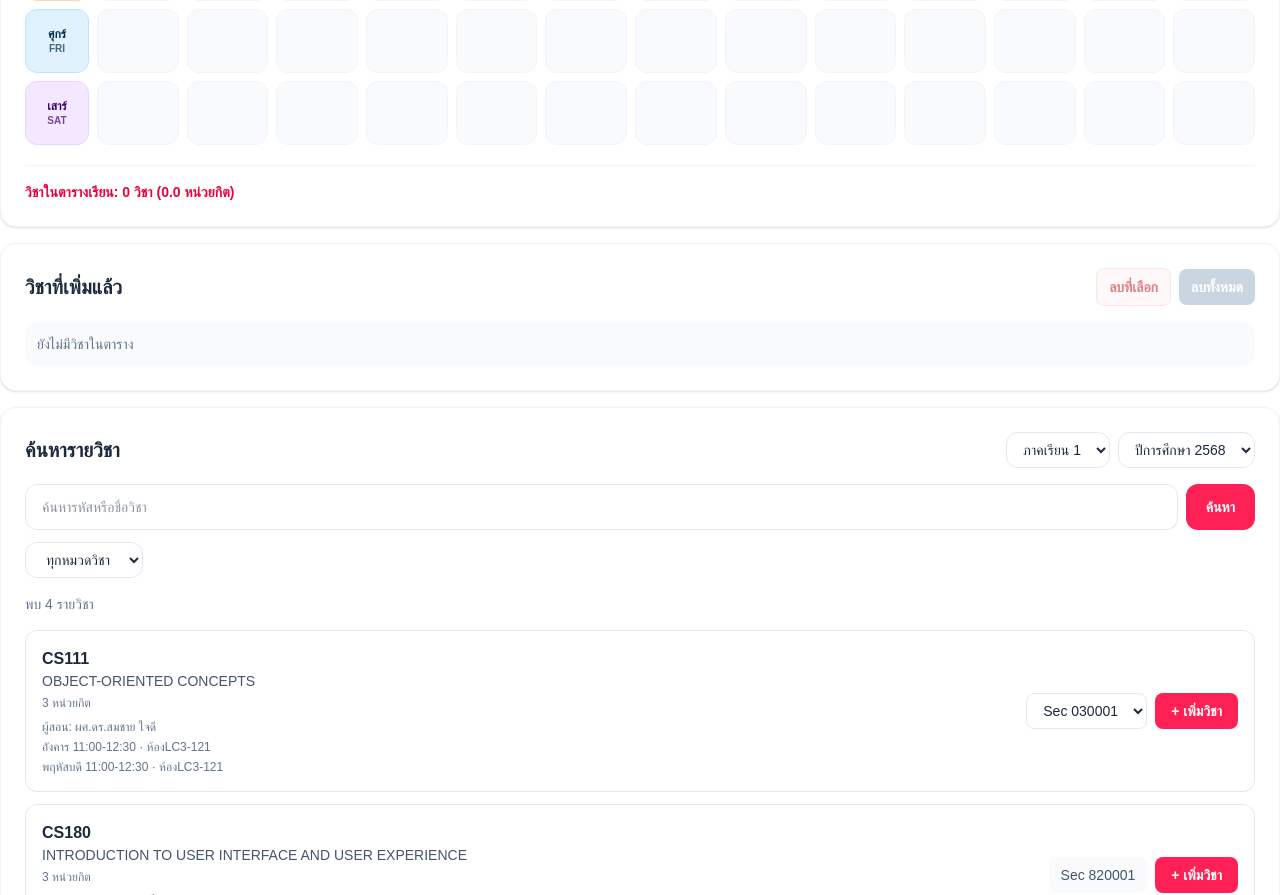
it: US1-T10 หน้าตารางเรียนจำลองเชื่อมกับ API › เปลี่ยนภาคเรียนระหว่างใช้งาน (จากรีวิวของ sitch ใน #45) › เปลี่ยนภาคแล้วรายวิชาภาคใหม่ยังโหลดไม่เสร็จ ไม่แสดงรายวิชาภาคเก่าให้กดเพิ่ม
(page scrolled)
Expected: the text "พบ 4 รายวิชา" is shown, [25,596,94,612]
Select "ภาคเรียน 2" in the dropdown named "ภาคเรียน" at (1058, 450), box [1006,432,1110,468]
(page scrolled)
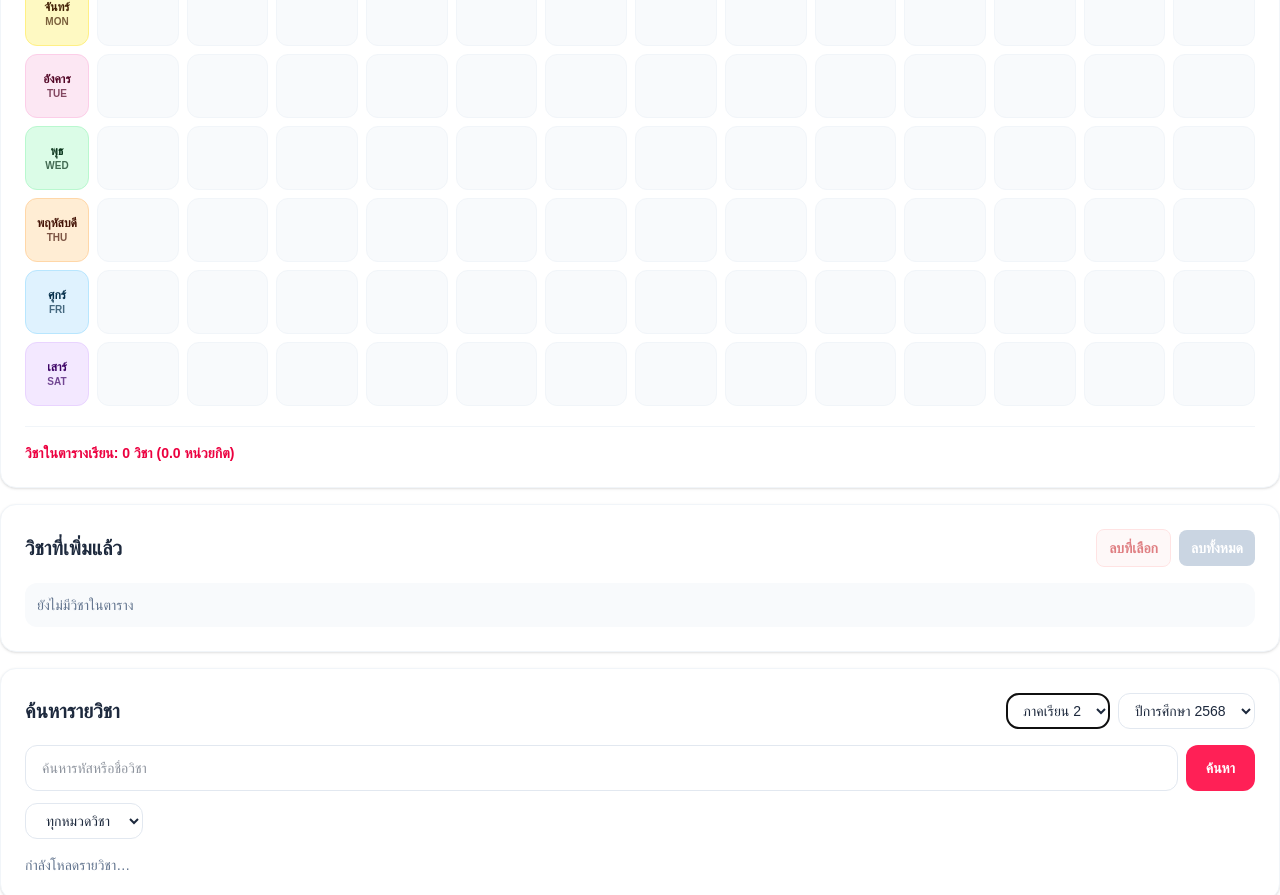
Now no buttons "+ เพิ่มวิชา" are shown
Now the text "กำลังโหลดรายวิชา…" is shown, box [25,857,130,873]
